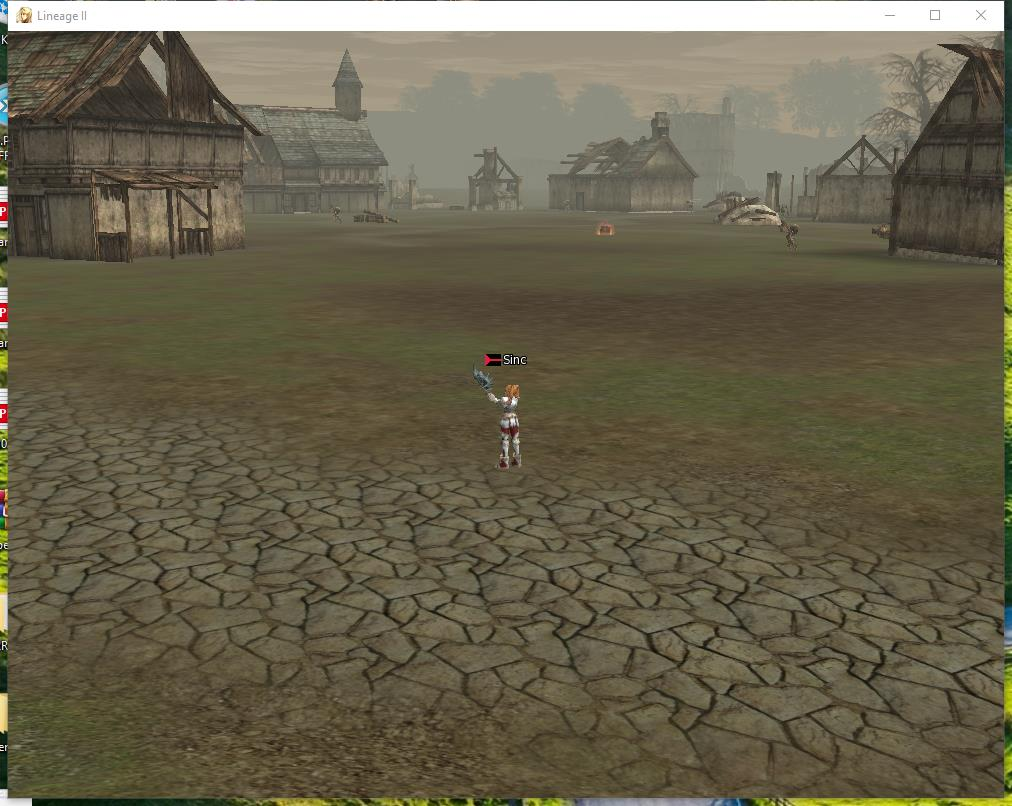monster: (783, 217, 804, 256)
